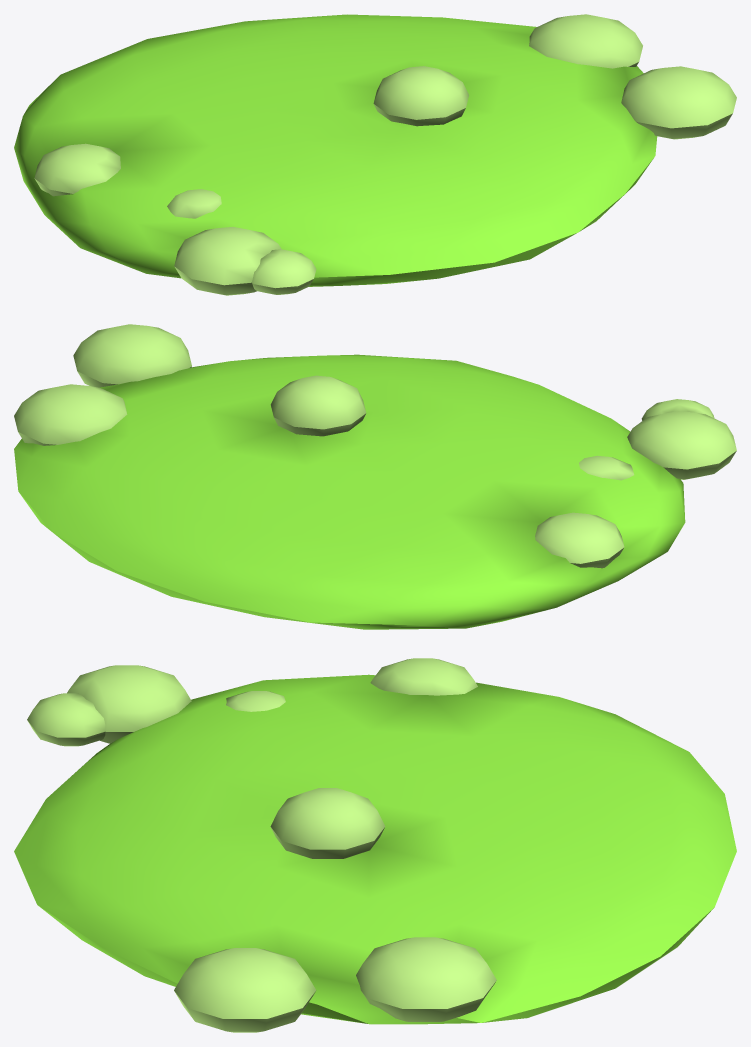
Rendered from bl_glue.glb.
The picture shows the model from 3 angles, top to bottom: view 1: azimuth 30°, elevation 25°; view 2: azimuth 150°, elevation 25°; view 3: azimuth 270°, elevation 25°; orthographic projection. The views are drawn at different scales.
Visible parts, largest first — view 1: glue; view 2: glue; view 3: glue.
Part boxes in pixels (x1,y1,x2,y2): glue: [14, 14, 736, 295]; glue: [14, 324, 736, 629]; glue: [14, 658, 736, 1032].
Size of the model in its own units: 1.02 by 0.1891 by 0.8812.
